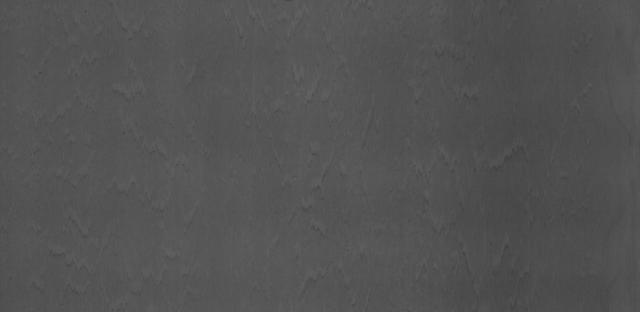silk_spot: (400, 100, 539, 265), (279, 131, 368, 246), (262, 46, 344, 99)
